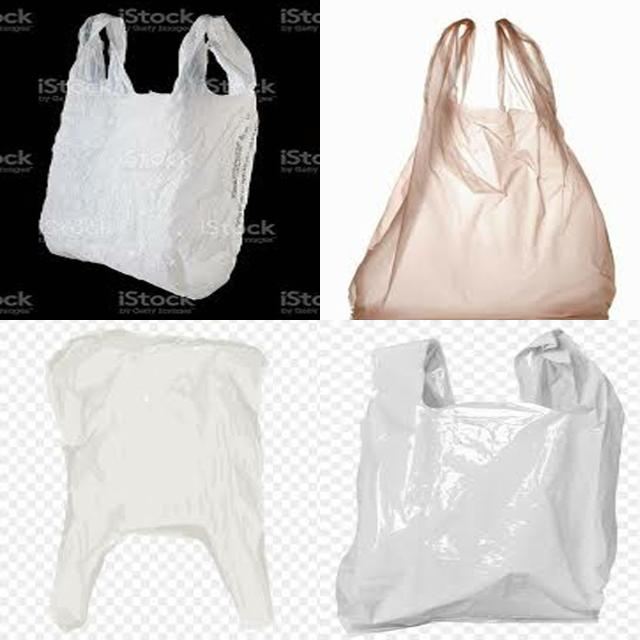Single-layer Plastic: (336, 330, 624, 631), (350, 19, 615, 319), (48, 331, 272, 629), (40, 14, 258, 299)
